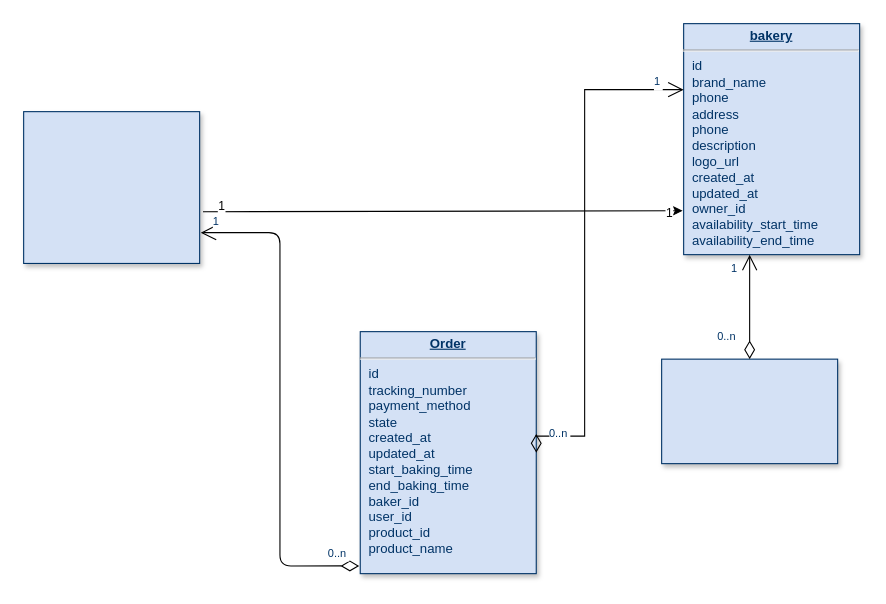
Some shapes in this 886 by 604 pixel diagram are drawn without their labels. Each missing label, with the centre of its shape:
product id name baker_id baking_time: point 750,412
user id name email hashed_password latest_l ocation created_at updated_at: point 112,188
